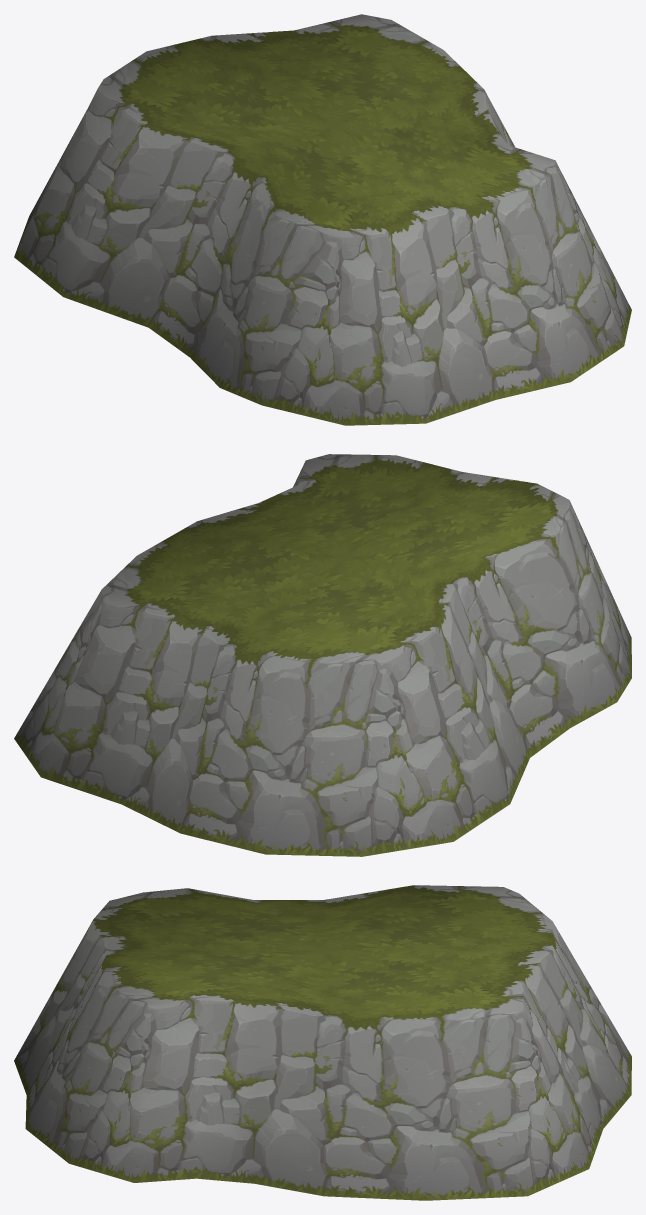
The model's file is Na_Cliff_01.FBX.
3 renders of one model, top to bottom at view 1: azimuth 30°, elevation 25°; view 2: azimuth 150°, elevation 25°; view 3: azimuth 270°, elevation 25°, orthographic. The views are drawn at different scales.
Visible parts, largest first — view 1: Na_Cliff_01; view 2: Na_Cliff_01; view 3: Na_Cliff_01.
Part boxes in pixels (x1,y1,x2,y2): Na_Cliff_01: (14, 14, 631, 425); Na_Cliff_01: (14, 454, 631, 856); Na_Cliff_01: (14, 885, 631, 1200).
Size of the model in its own units: 15.13 by 5 by 19.34.
